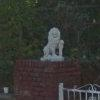Statue: (36, 16, 84, 74)
